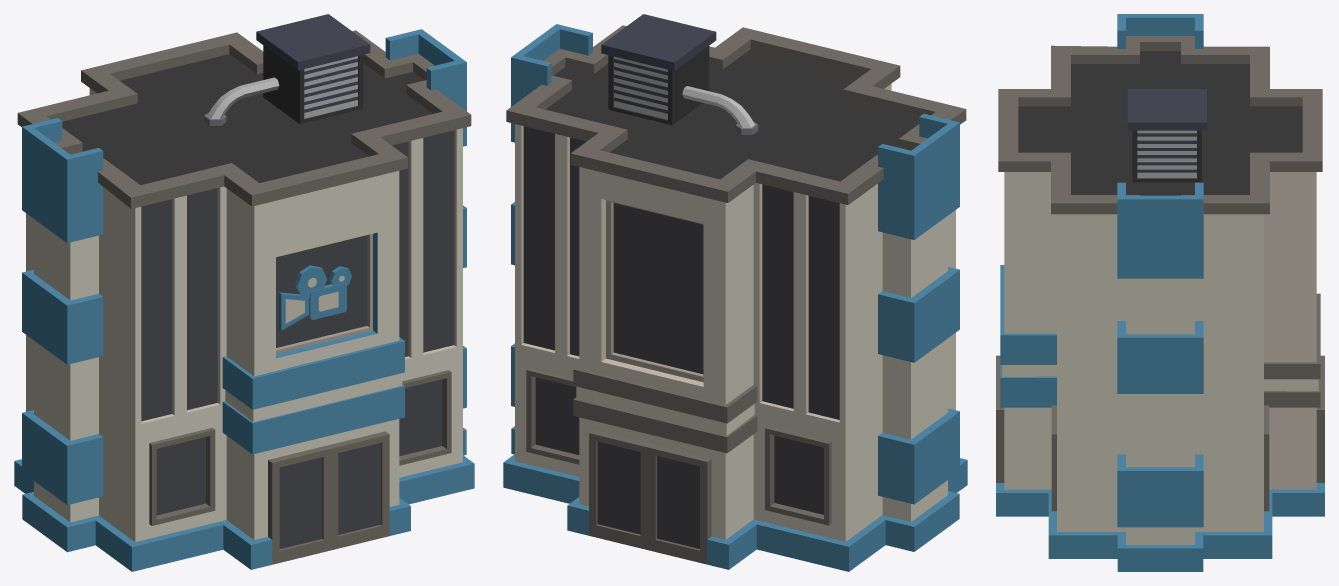
Rendered from cinema01_color02.fbx.
The picture shows the model from 3 angles, left to right: view 1: azimuth 30°, elevation 25°; view 2: azimuth 150°, elevation 25°; view 3: azimuth 270°, elevation 25°; orthographic projection. The views are drawn at different scales.
Visible parts, largest first — view 1: MainBody.001, Pipe.001; view 2: MainBody.001, Pipe.001; view 3: MainBody.001, Pipe.001.
Part boxes in pixels (x1,y1,x2,y2): MainBody.001: (14, 29, 474, 571); Pipe.001: (204, 14, 370, 125); MainBody.001: (503, 24, 967, 571); Pipe.001: (601, 14, 758, 134); MainBody.001: (996, 14, 1324, 571); Pipe.001: (1127, 89, 1206, 182).
Bounding box in the file's own units: 1260 × 1291 × 945.
